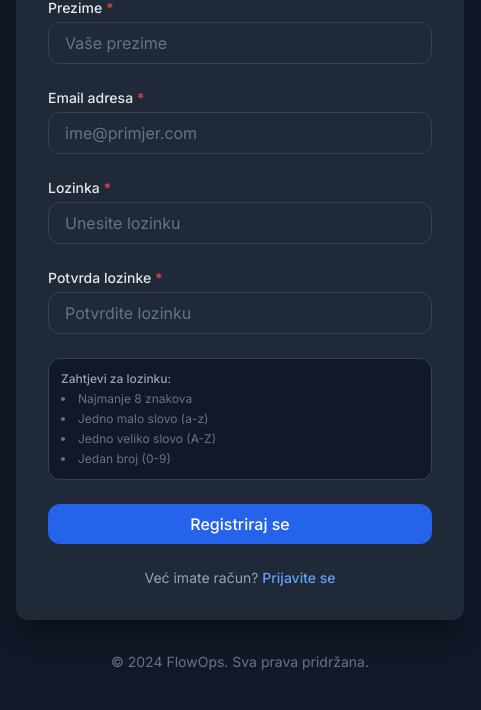
RegisterPage › shows validation error for empty first name
This screenshot has width=481, height=710.
(page scrolled)
Click the button "Registriraj se" at point(240, 524), box [48,504,432,544]
(page scrolled)
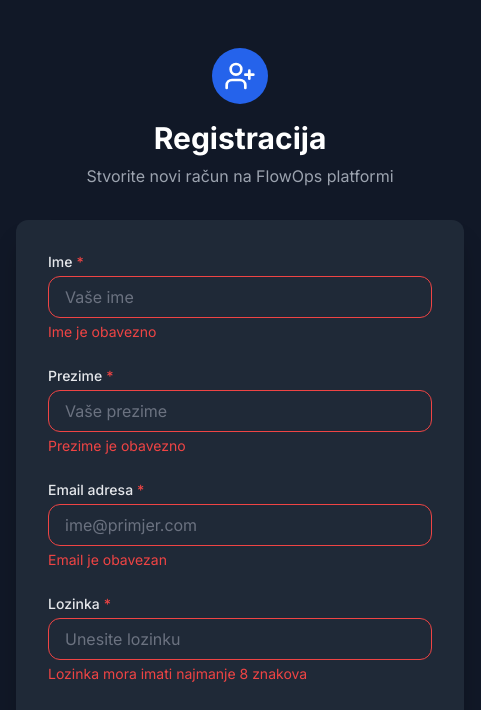
Expected: the text "Ime je obavezno" is shown, [48,323,156,340]
